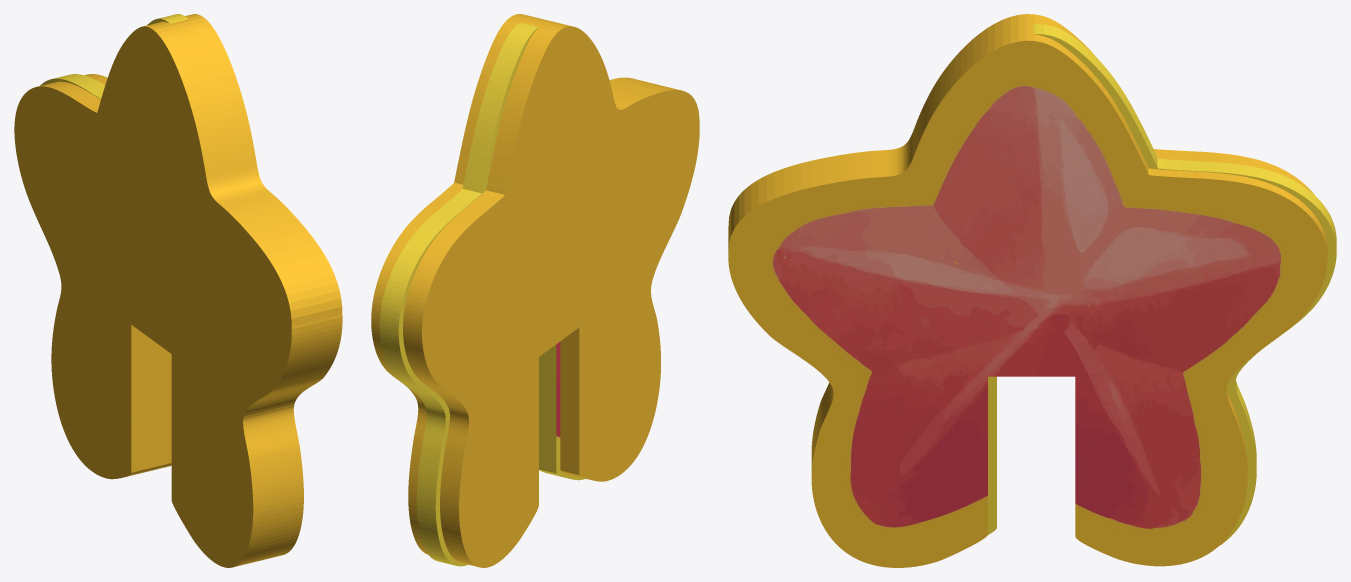
The model's file is topper-star-02.glb.
The picture shows the model from 3 angles, left to right: view 1: azimuth 30°, elevation 25°; view 2: azimuth 150°, elevation 25°; view 3: azimuth 270°, elevation 25°; orthographic projection. The views are drawn at different scales.
Visible parts, largest first — view 1: topper-star-02; view 2: topper-star-02; view 3: topper-star-02.
Part boxes in pixels (x1,y1,x2,y2): topper-star-02: [14, 14, 342, 567]; topper-star-02: [371, 14, 699, 567]; topper-star-02: [728, 14, 1336, 567].
Bounding box in the file's own units: 24 × 221 × 231.
4 materials, 2 textured.
